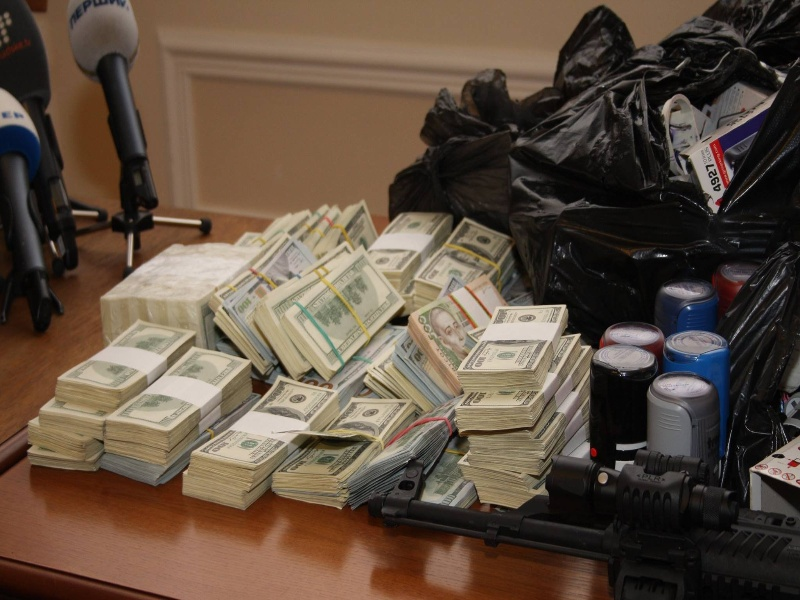cash: (27, 198, 593, 509)
